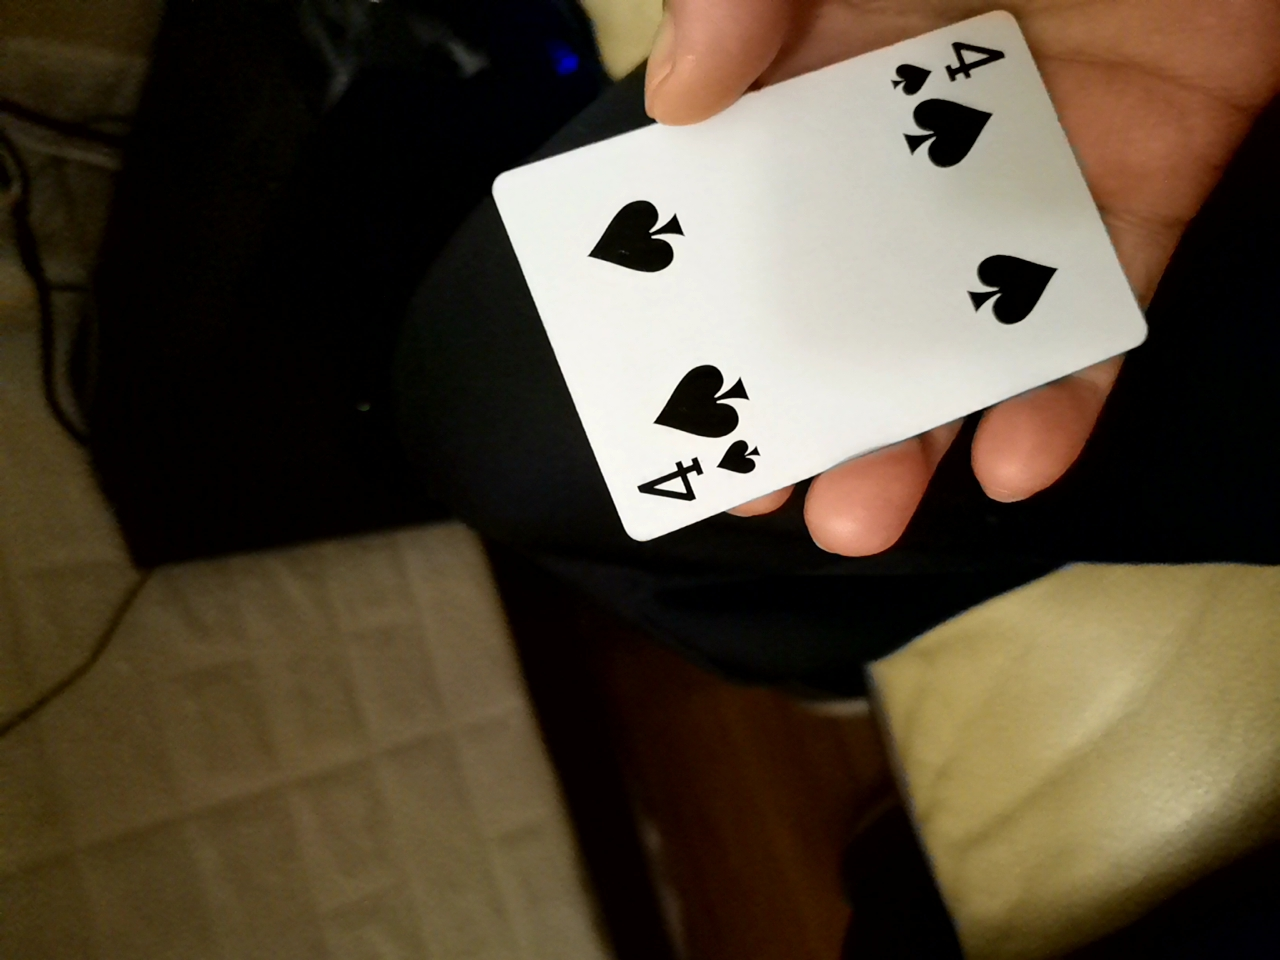ht 4: (471, 13, 1151, 546)
